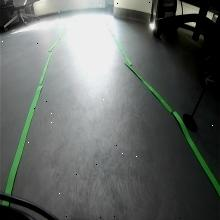left: (200, 66, 219, 92)
